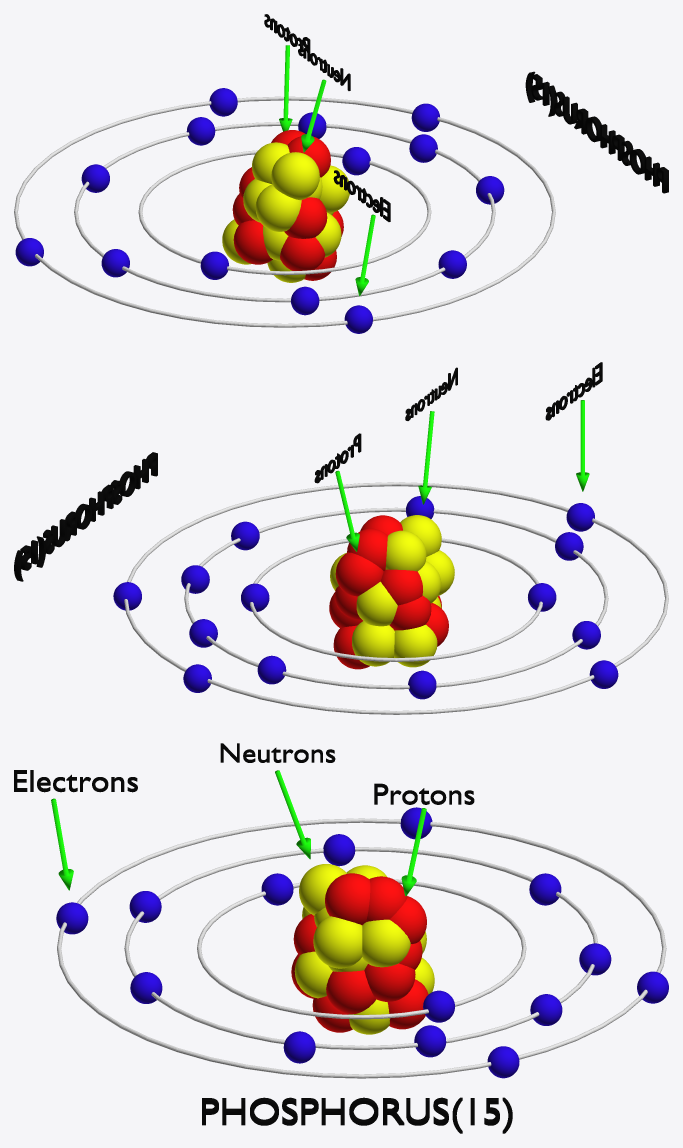
File: Phosphorus Atomic Model.gltf
3 views of the same model, one above another, from view 1: azimuth 30°, elevation 25°; view 2: azimuth 150°, elevation 25°; view 3: azimuth 270°, elevation 25° (orthographic). The views are drawn at different scales.
Visible parts, largest first — view 1: Torus.000, Text.003, Torus.004, Torus.003, Sphere.025, Sphere.023, Sphere.016, Sphere.022, Sphere.002, Sphere.029, Sphere.044, Sphere.018 (+23 smaller); view 2: Torus.000, Torus.004, Text.003, Torus.003, Sphere.011, Sphere.024, Sphere.029, Sphere.021, Sphere.001, Sphere.028, Sphere.020, Sphere.026 (+25 smaller); view 3: Torus.000, Text.003, Torus.004, Torus.003, Sphere.044, Sphere.019, Sphere.018, Sphere.006, Sphere.008, Sphere.025, Sphere.020, Sphere.005 (+25 smaller).
Boxes of the visible parts, bbox=[...] form: Torus.000: bbox=[14, 96, 555, 327]; Text.003: bbox=[525, 71, 668, 193]; Torus.004: bbox=[74, 122, 495, 302]; Torus.003: bbox=[138, 150, 431, 275]; Sphere.025: bbox=[271, 152, 319, 200]; Sphere.023: bbox=[255, 184, 301, 231]; Sphere.016: bbox=[280, 236, 325, 270]; Sphere.022: bbox=[233, 220, 272, 264]; Sphere.002: bbox=[284, 197, 327, 238]; Sphere.029: bbox=[252, 142, 289, 184]; Sphere.044: bbox=[320, 165, 349, 212]; Sphere.018: bbox=[287, 136, 330, 177]; Torus.000: bbox=[124, 482, 668, 714]; Torus.004: bbox=[184, 507, 608, 689]; Text.003: bbox=[14, 452, 157, 581]; Torus.003: bbox=[250, 538, 542, 661]; Sphere.011: bbox=[352, 621, 394, 666]; Sphere.024: bbox=[335, 552, 383, 596]; Sphere.029: bbox=[385, 530, 426, 571]; Sphere.021: bbox=[394, 624, 437, 667]; Sphere.001: bbox=[356, 581, 397, 626]; Sphere.028: bbox=[380, 569, 422, 605]; Sphere.020: bbox=[347, 528, 387, 570]; Sphere.026: bbox=[389, 595, 431, 630]; Torus.000: bbox=[57, 818, 666, 1078]; Text.003: bbox=[202, 1097, 512, 1133]; Torus.004: bbox=[124, 847, 598, 1049]; Torus.003: bbox=[197, 879, 526, 1019]; Sphere.044: bbox=[313, 916, 362, 968]; Sphere.019: bbox=[362, 919, 410, 967]; Sphere.018: bbox=[325, 873, 370, 925]; Sphere.006: bbox=[326, 970, 376, 1014]; Sphere.008: bbox=[364, 963, 415, 1001]; Sphere.025: bbox=[299, 864, 346, 915]; Sphere.020: bbox=[366, 876, 407, 921]; Sphere.005: bbox=[294, 951, 332, 998].
Size of the model in its own units: 7.1 by 3.02 by 6.44.
